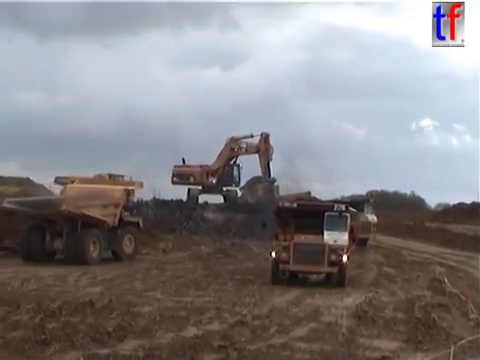excavator: (168, 129, 282, 216), (246, 189, 325, 220)
truck: (1, 180, 145, 266), (260, 199, 355, 287), (269, 193, 379, 249), (51, 172, 135, 202)
